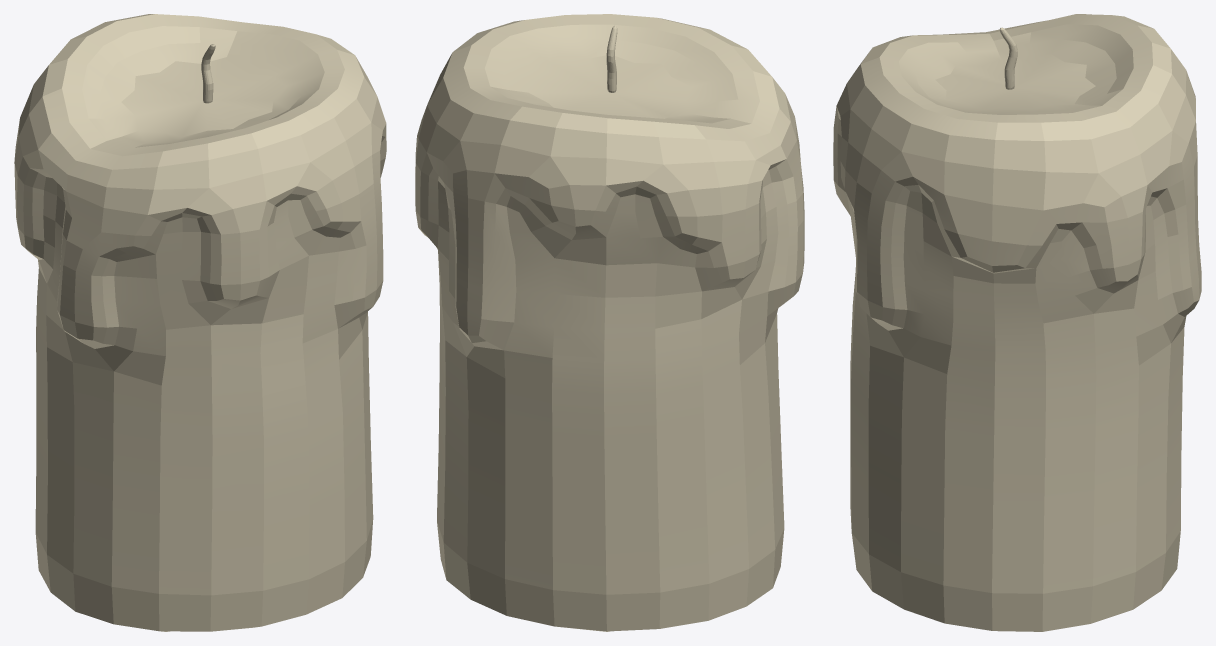
File: CandleFrumpyShort.fbx
3 renders of one model, left to right at view 1: azimuth 30°, elevation 25°; view 2: azimuth 150°, elevation 25°; view 3: azimuth 270°, elevation 25°, orthographic.
Visible parts, largest first — view 1: FrumpyShortCandle; view 2: FrumpyShortCandle; view 3: FrumpyShortCandle.
Part boxes in pixels (left/top/right/bottom): FrumpyShortCandle: left=14, top=14, right=386, bottom=631; FrumpyShortCandle: left=415, top=14, right=804, bottom=631; FrumpyShortCandle: left=833, top=14, right=1201, bottom=631.
Size of the model in its own units: 12.7 by 20 by 12.19.
